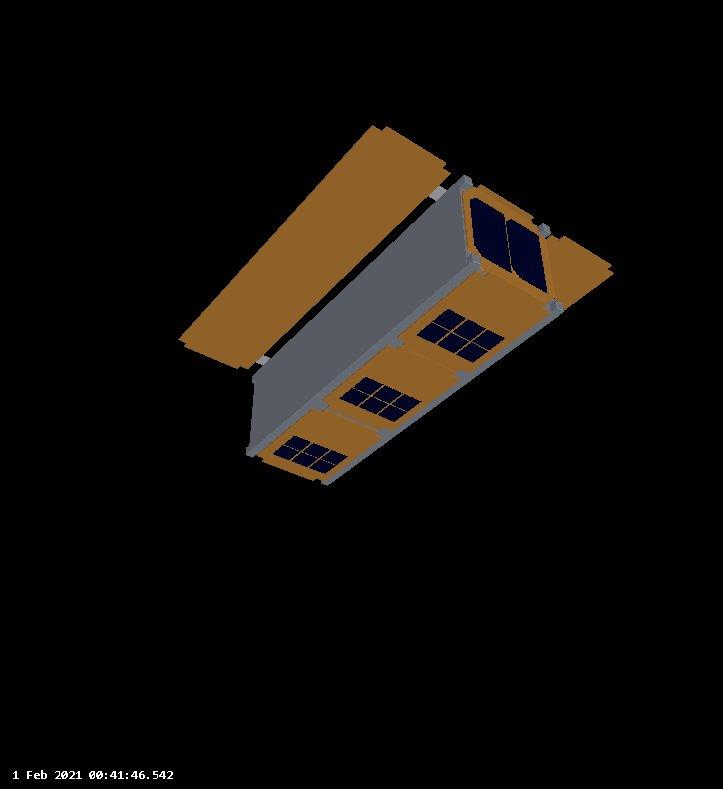body: (249, 187, 562, 487)
solar: (175, 120, 451, 374), (470, 195, 556, 300), (419, 309, 504, 364), (339, 376, 422, 426), (275, 433, 349, 479)
